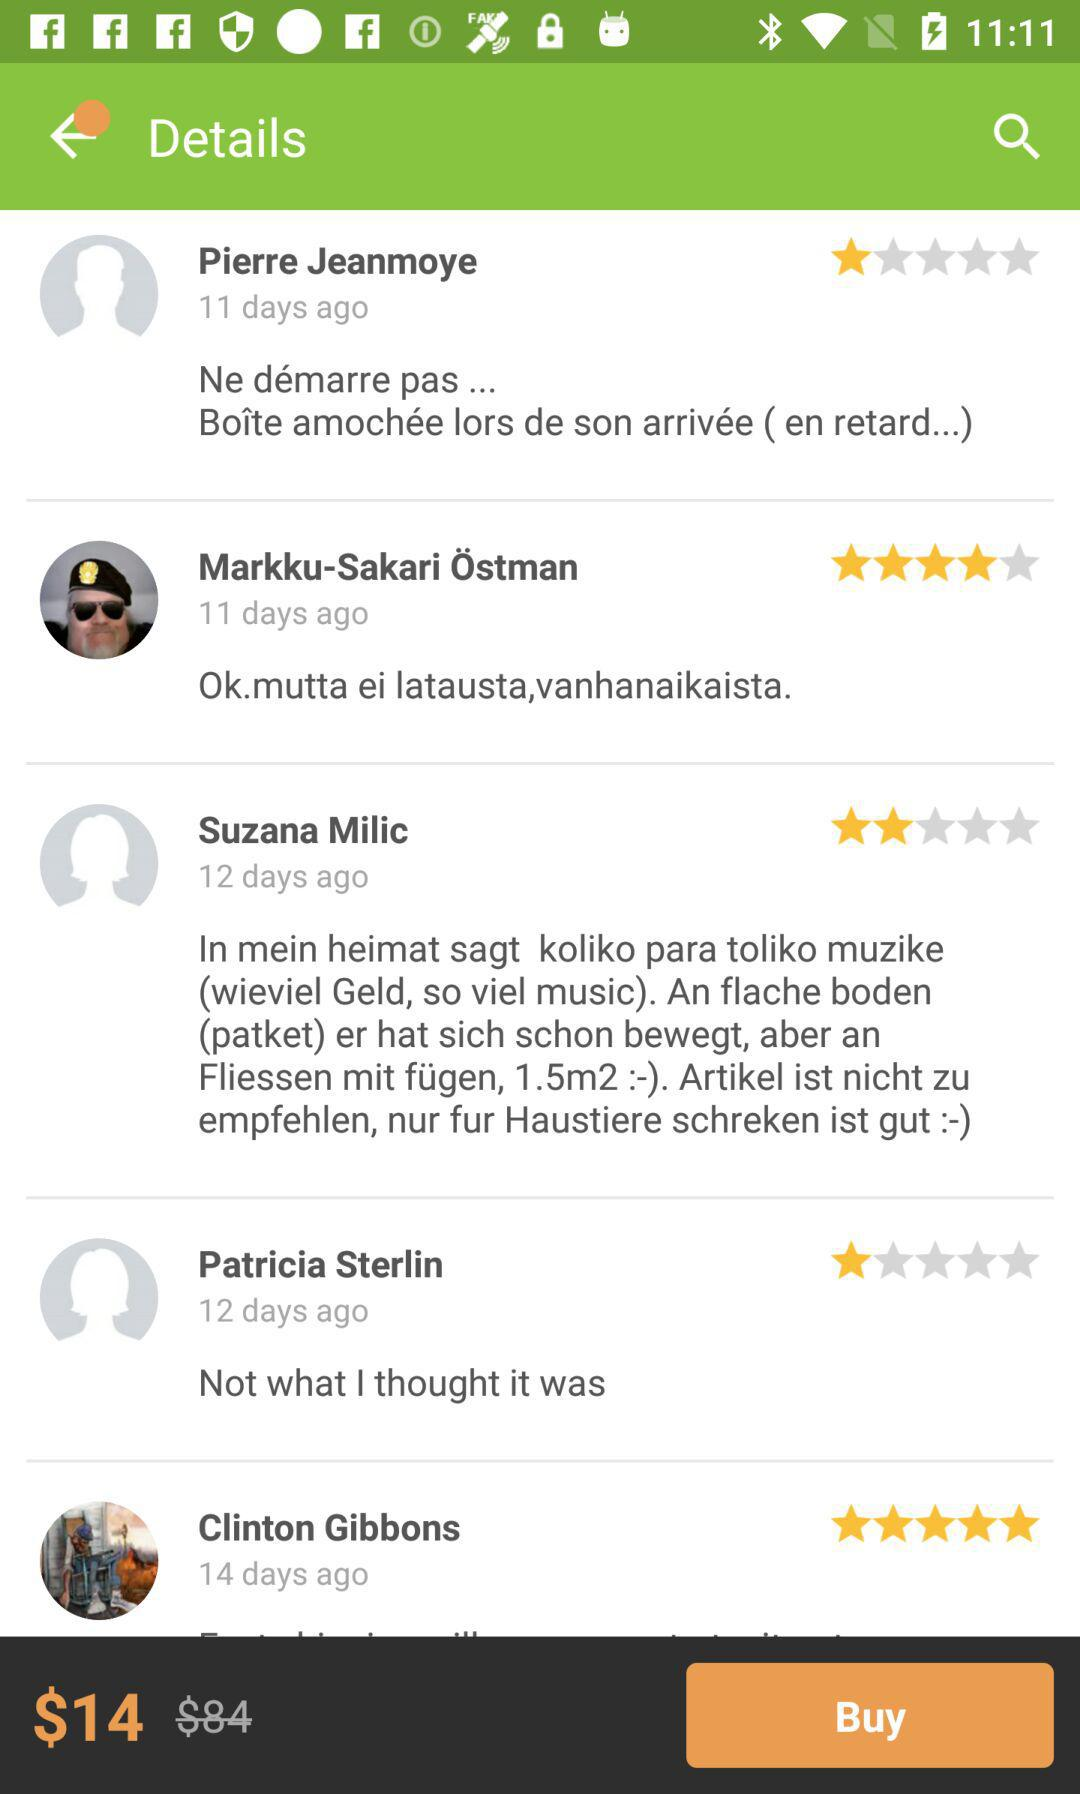Icon: (40, 235, 160, 340), (40, 1238, 159, 1342), (40, 803, 159, 907), (830, 1240, 1042, 1281), (830, 236, 1042, 277), (831, 805, 1042, 846), (831, 1503, 1042, 1543), (830, 545, 1042, 583), (49, 100, 111, 161), (993, 111, 1042, 161)
Image: (40, 1501, 160, 1621), (40, 541, 160, 660)
Text: (200, 933, 971, 1142), (201, 364, 972, 445), (199, 670, 790, 701), (201, 1367, 606, 1404), (200, 548, 578, 582), (200, 247, 478, 284), (199, 1512, 461, 1543), (201, 1248, 445, 1279), (35, 1685, 145, 1749), (151, 117, 307, 160), (199, 815, 409, 844), (200, 1559, 369, 1593), (200, 1296, 369, 1329), (200, 862, 369, 896), (200, 598, 369, 632), (200, 293, 369, 327), (176, 1694, 252, 1738)
TextButton: (685, 1662, 1054, 1768)
Toolbar: (1, 64, 1080, 211)
UpperTaskBar: (1, 1, 1080, 64)
